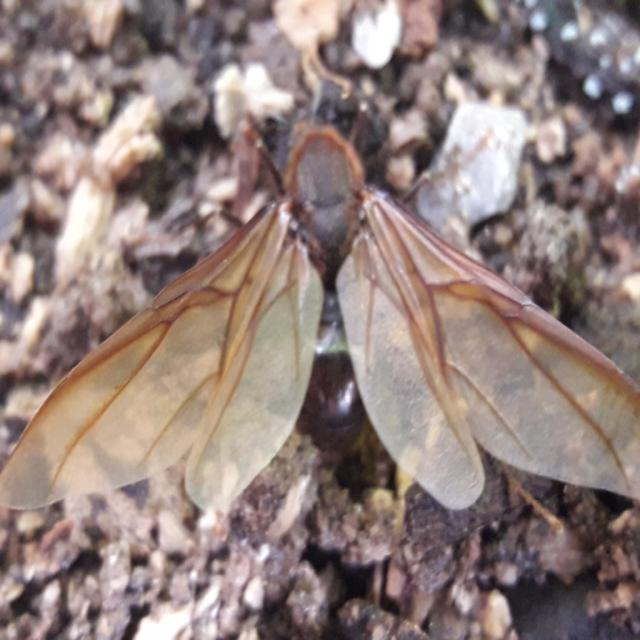Alive-Male-Alate: (0, 51, 640, 515)
